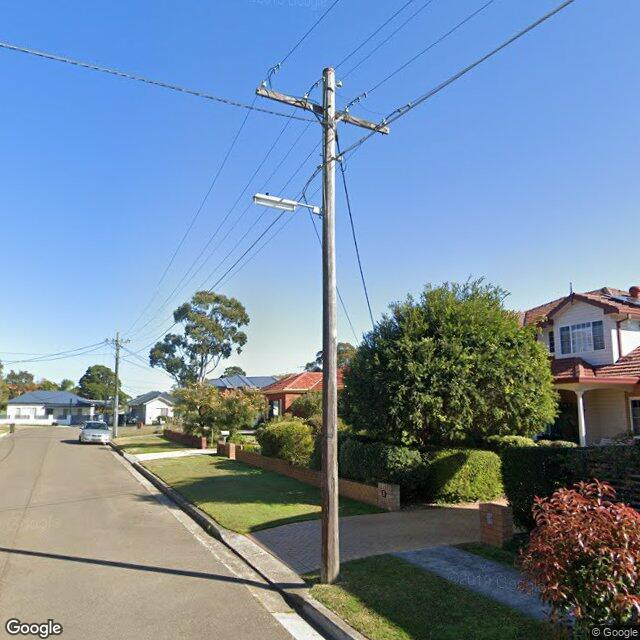crossarm: (254, 86, 391, 136), (105, 338, 132, 344)
streetlight: (253, 191, 324, 217)
timber-pole: (319, 67, 341, 584), (113, 332, 120, 437)
